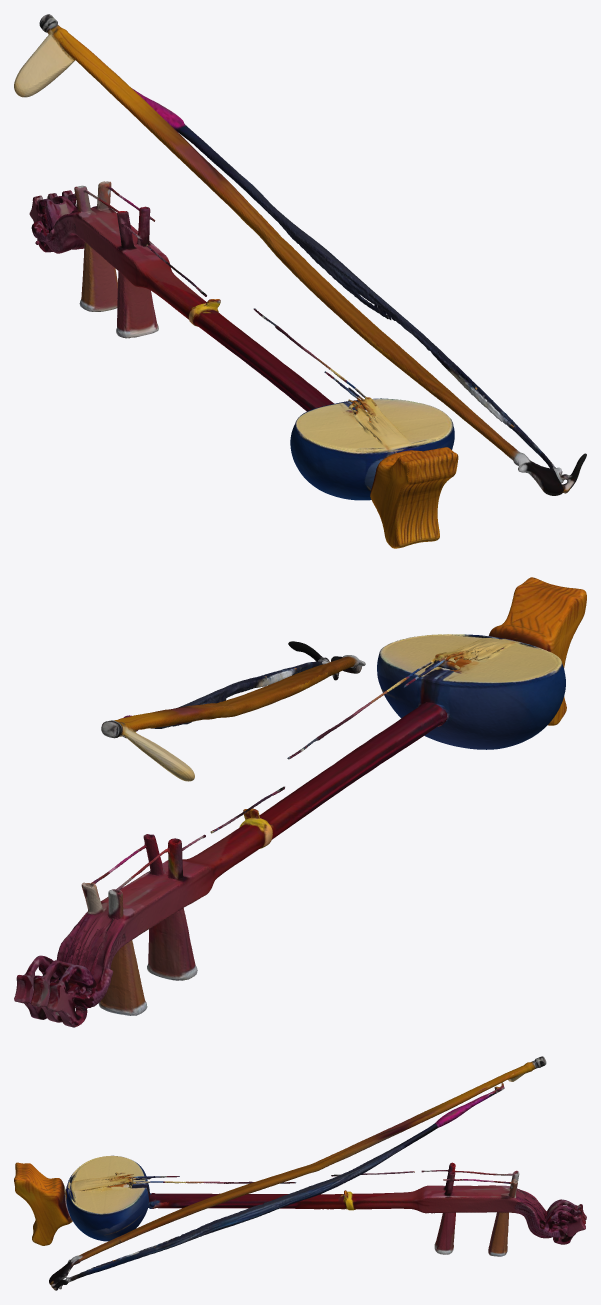
Rendered from yehu.glb.
3 renders of one model, top to bottom at view 1: azimuth 30°, elevation 25°; view 2: azimuth 150°, elevation 25°; view 3: azimuth 270°, elevation 25°, orthographic. The views are drawn at different scales.
Visible parts, largest first — view 1: tripo_node_5846bc36-ce0a-4c8b-815f-6d70e0a1581e; view 2: tripo_node_5846bc36-ce0a-4c8b-815f-6d70e0a1581e; view 3: tripo_node_5846bc36-ce0a-4c8b-815f-6d70e0a1581e.
Boxes of the visible parts, x1=… form: tripo_node_5846bc36-ce0a-4c8b-815f-6d70e0a1581e: x1=14, y1=14, x2=586, y2=548; tripo_node_5846bc36-ce0a-4c8b-815f-6d70e0a1581e: x1=14, y1=577, x2=586, y2=1027; tripo_node_5846bc36-ce0a-4c8b-815f-6d70e0a1581e: x1=14, y1=1056, x2=586, y2=1290.
Bounding box in the file's own units: 40.8 × 41.08 × 114.
1 material, 1 textured.
